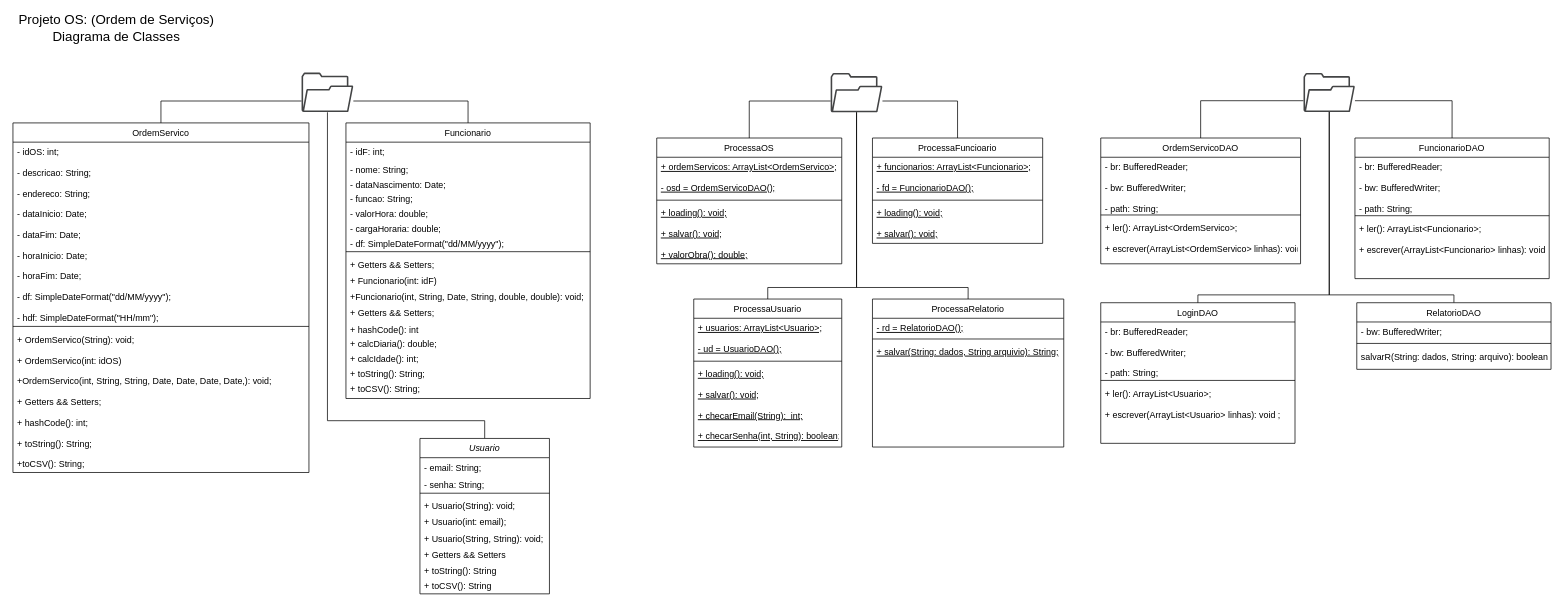
Some shapes in this 1564 by 607 pixel diagram are drawn without their labels. The centre of each missing label's shape, as x and y in pixels:
"Controller" belongs at point 856,92.
"model" belongs at point 327,92.
"model.dao" belongs at point 1329,92.
